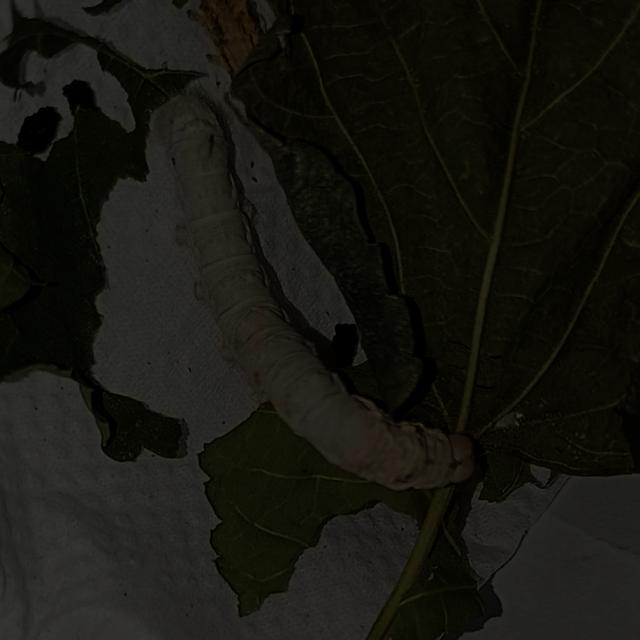Healthy: (147, 69, 508, 522)
